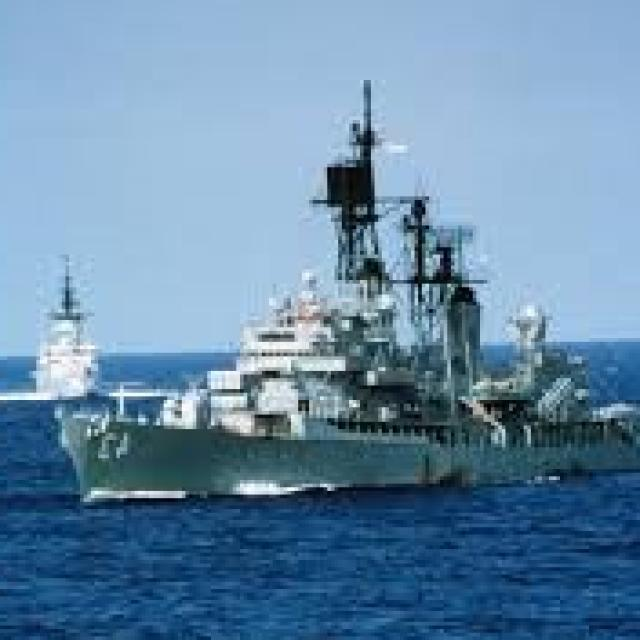navalvessels: (60, 76, 639, 496), (18, 235, 112, 401)
